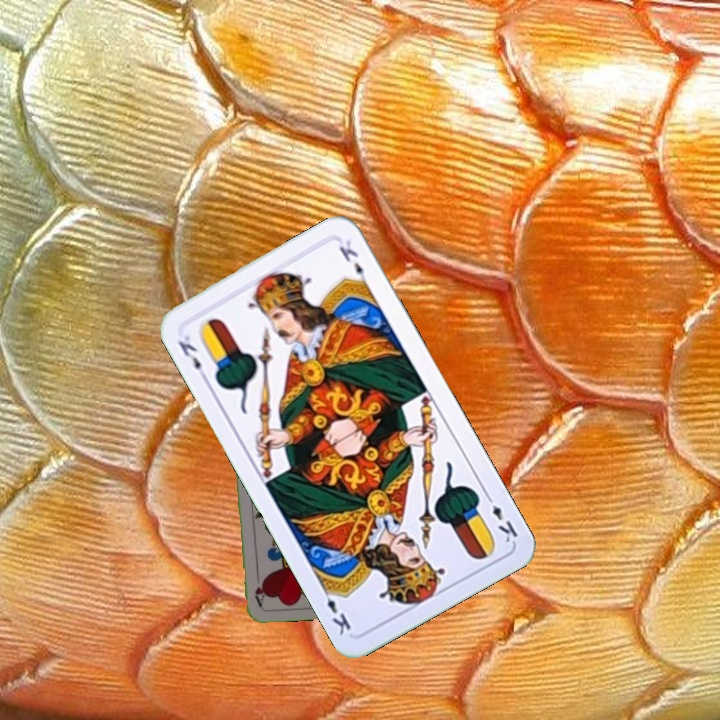EK: (481, 489, 521, 546), (173, 331, 210, 384)
